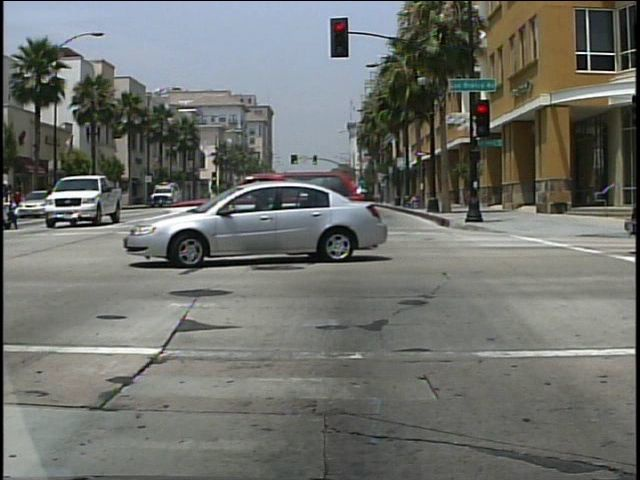person: (1, 179, 23, 233)
